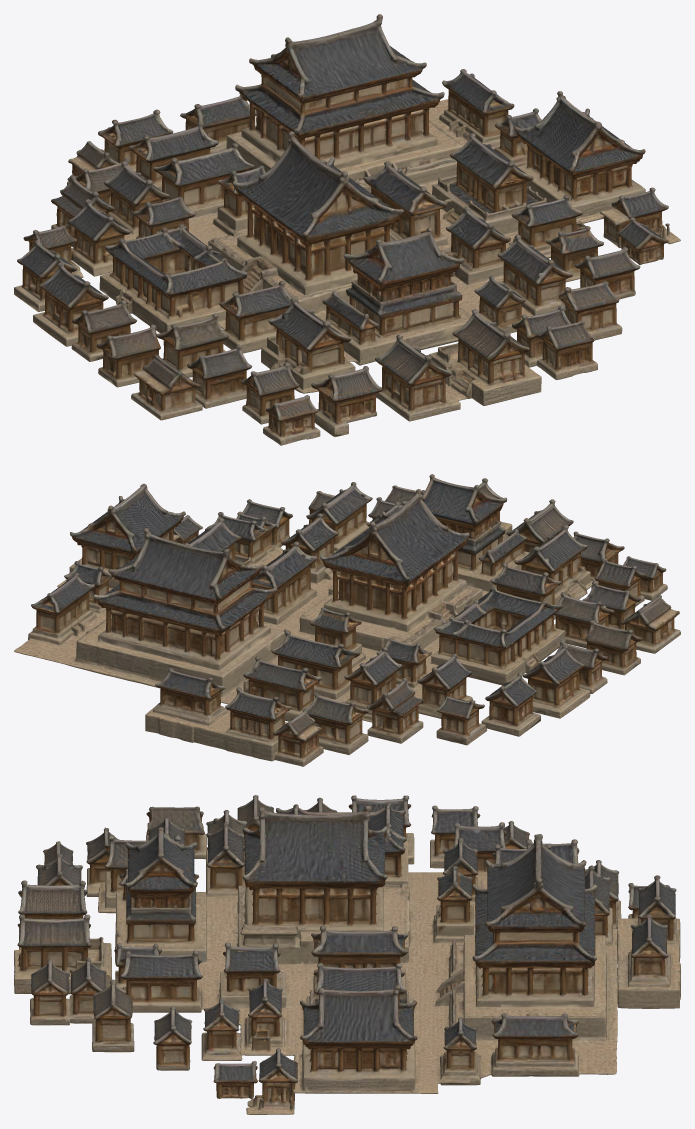
The model's file is Classical City (East Asian).fbx.
The picture shows the model from 3 angles, top to bottom: view 1: azimuth 30°, elevation 25°; view 2: azimuth 150°, elevation 25°; view 3: azimuth 270°, elevation 25°; orthographic projection. The views are drawn at different scales.
Visible parts, largest first — view 1: tripo_node_c1fa9481; view 2: tripo_node_c1fa9481; view 3: tripo_node_c1fa9481.
Boxes of the visible parts, x1,y1,x2,y2 form: tripo_node_c1fa9481: (14,14,680,445); tripo_node_c1fa9481: (14,474,680,766); tripo_node_c1fa9481: (14,795,680,1114).
Size of the model in its own units: 1 by 0.28 by 0.9999.
